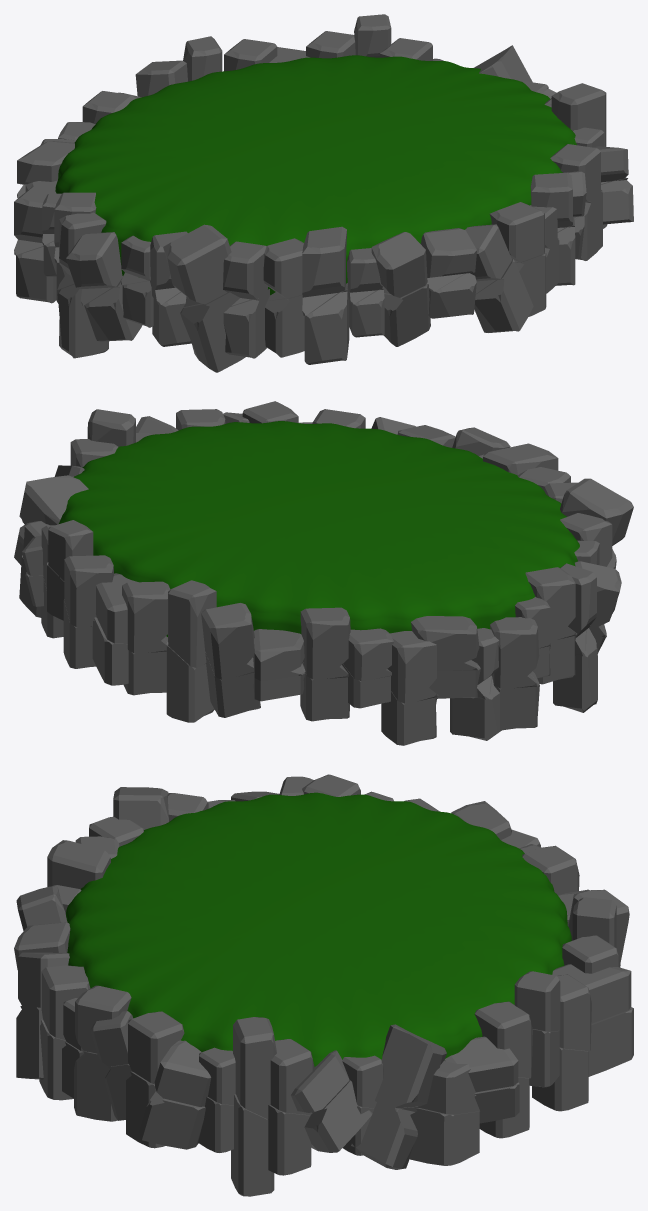
Rendered from arena.fbx.
The picture shows the model from 3 angles, top to bottom: view 1: azimuth 30°, elevation 25°; view 2: azimuth 150°, elevation 25°; view 3: azimuth 270°, elevation 25°; orthographic projection. The views are drawn at different scales.
Visible parts, largest first — view 1: Terrain, Circle; view 2: Terrain, Circle; view 3: Circle, Terrain.
Part boxes in pixels (bbox=[...]): Terrain: bbox=[14, 14, 633, 372]; Circle: bbox=[55, 55, 576, 295]; Terrain: bbox=[14, 401, 633, 745]; Circle: bbox=[59, 421, 579, 636]; Circle: bbox=[66, 792, 571, 1066]; Terrain: bbox=[14, 774, 633, 1196].
Bounding box in the file's own units: 2867 × 781 × 2442.
